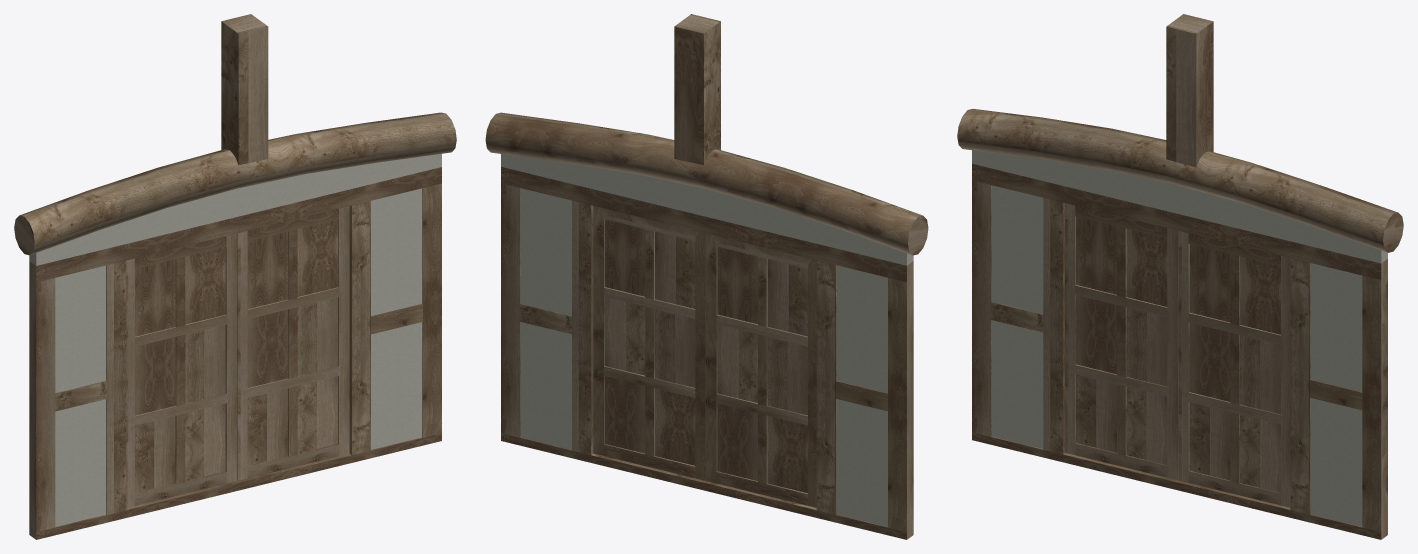
File: SM_Sun_Toilet_Wall_K.fbx
3 renders of one model, left to right at view 1: azimuth 30°, elevation 25°; view 2: azimuth 150°, elevation 25°; view 3: azimuth 330°, elevation 25°, orthographic.
Parts seen in each view (by area): view 1: SM_Sun_Toilet_Wall_K; view 2: SM_Sun_Toilet_Wall_K; view 3: SM_Sun_Toilet_Wall_K.
Part boxes in pixels (<box>): SM_Sun_Toilet_Wall_K: <box>14,14,456,539</box>; SM_Sun_Toilet_Wall_K: <box>485,14,928,539</box>; SM_Sun_Toilet_Wall_K: <box>957,14,1403,539</box>.
Bounding box in the file's own units: 356 × 372 × 30.17.
